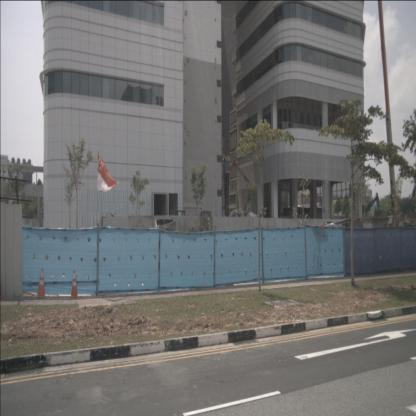cone: (36, 268, 46, 298), (69, 270, 79, 299)
